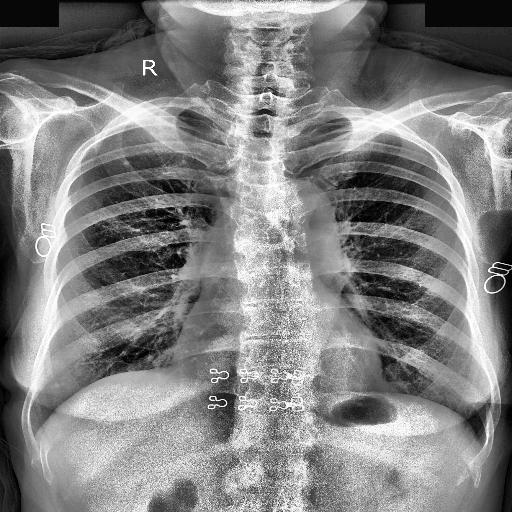0- Aortic enlargement: (268, 176, 344, 274), (268, 180, 344, 266), (266, 178, 338, 251)
